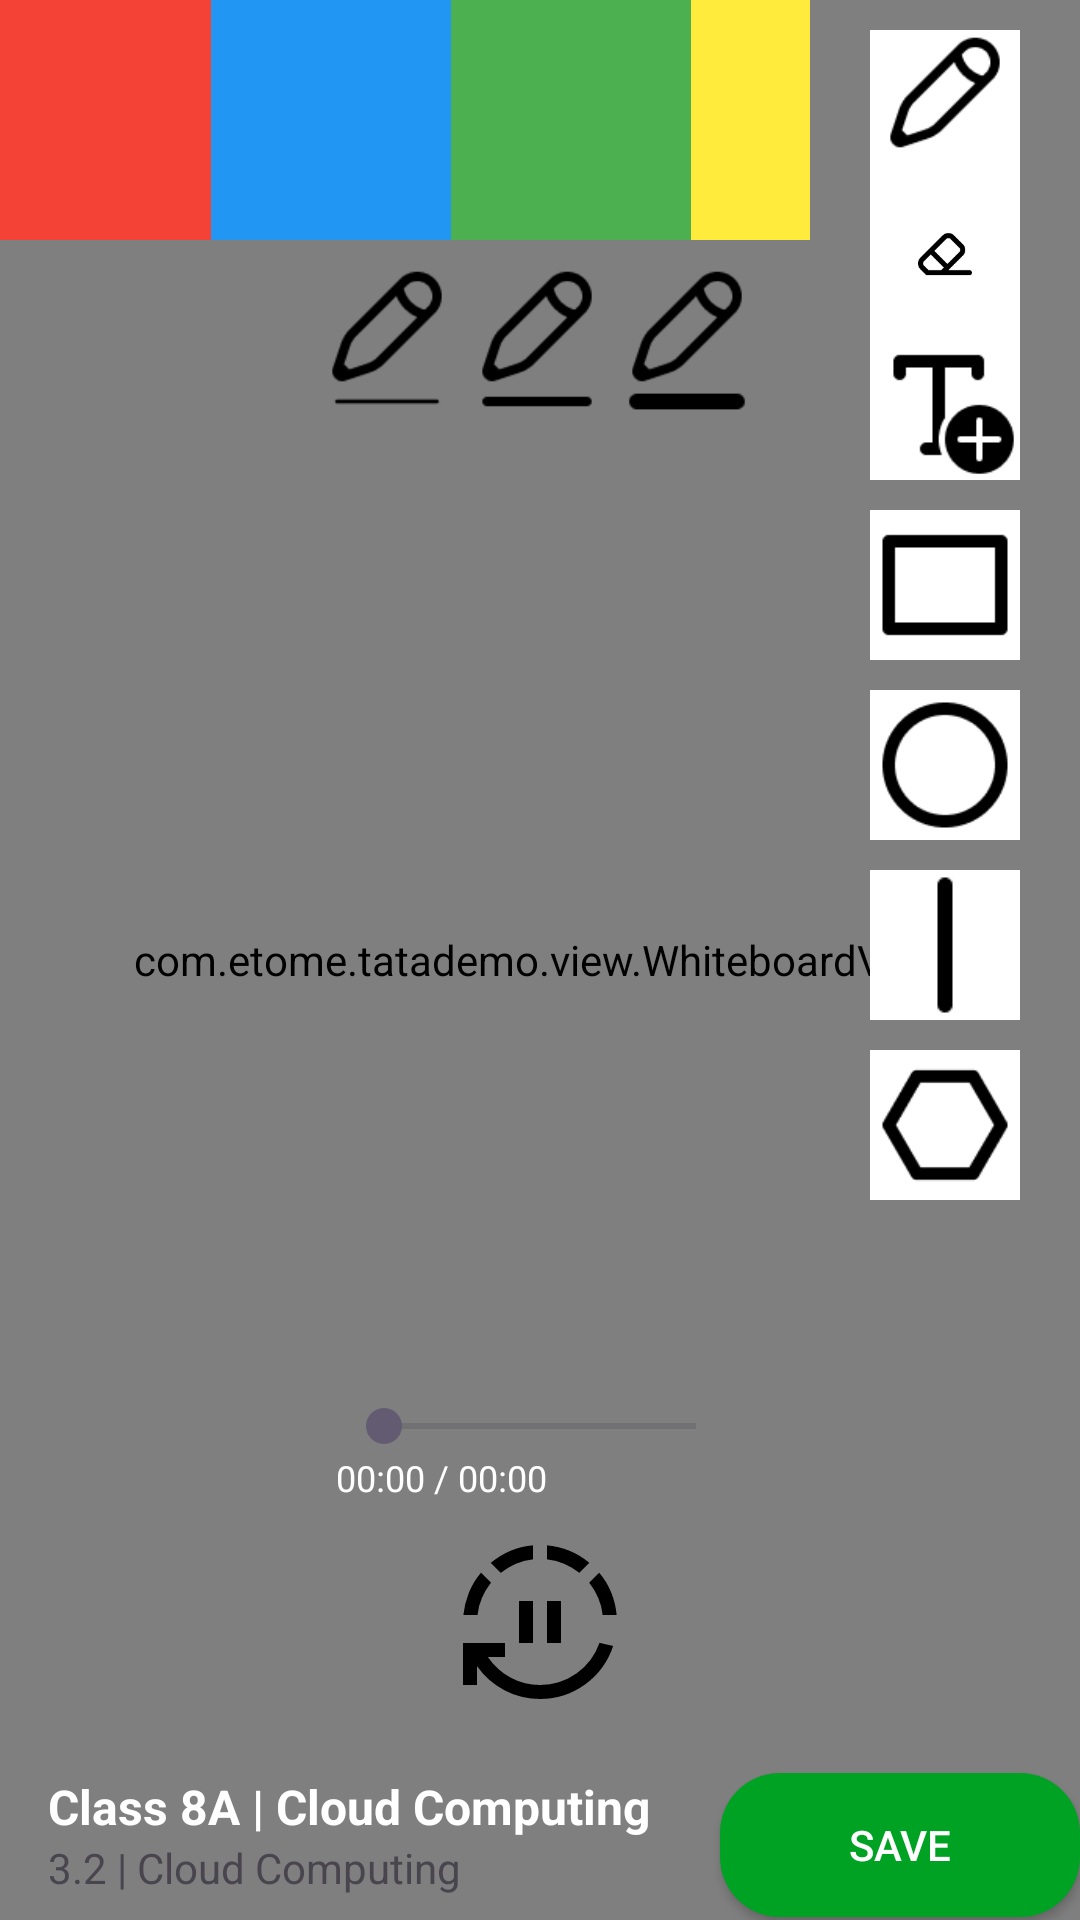

Icons on this 1080*1920 Android screen, each with the point to tap as point (x, y):
circle: point (945, 765)
Eraser: point (945, 254)
line: point (945, 945)
medium: point (537, 339)
pause: point (540, 1622)
Pen: point (945, 105)
polygon: point (945, 1125)
textadd: point (945, 405)
thick: point (687, 340)
